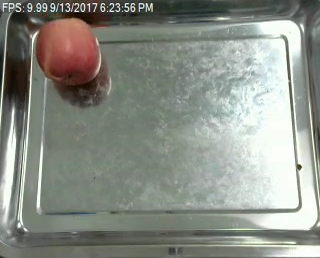Apple: (31, 12, 103, 89)
